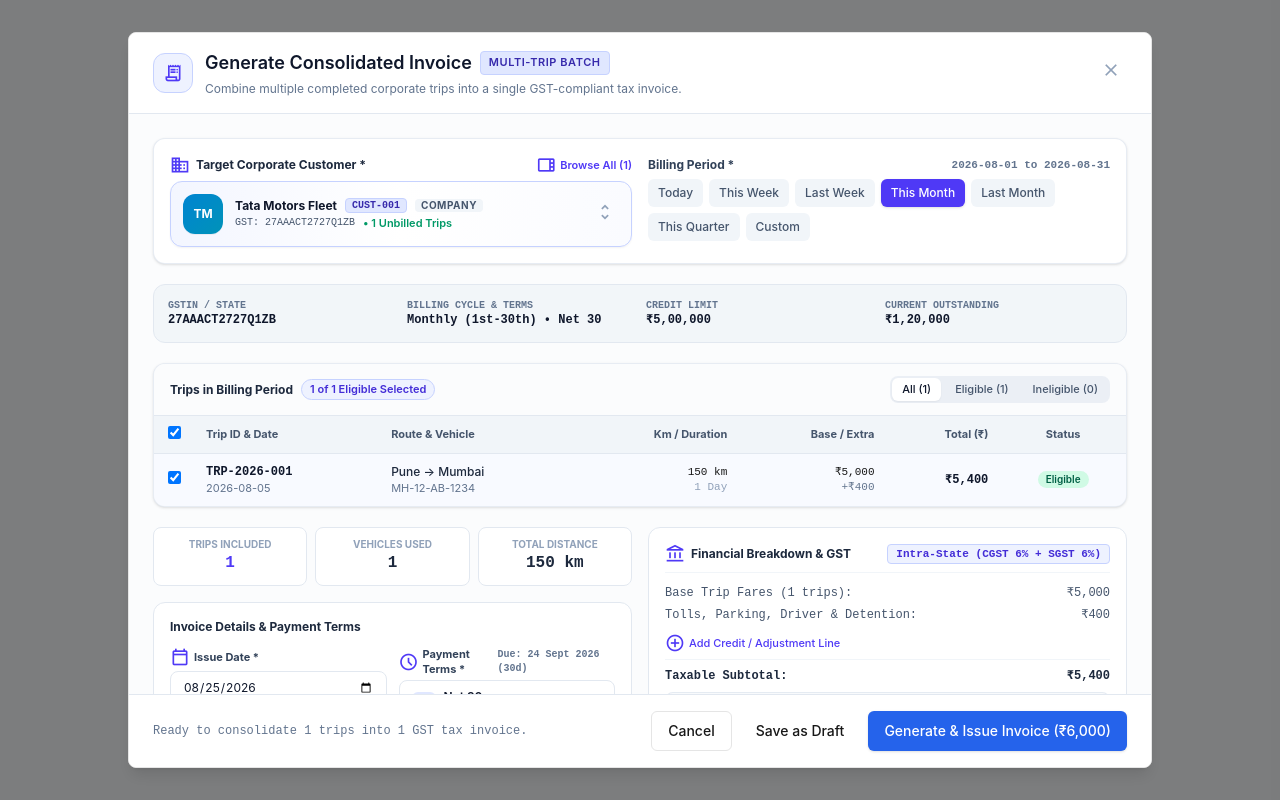
it: ConsolidatedInvoiceModal › toggles an eligible trip selection
Click the checkbox named "Select trip TRP-2026-001".
click(174, 478)  # box 168,471 -> 180,484
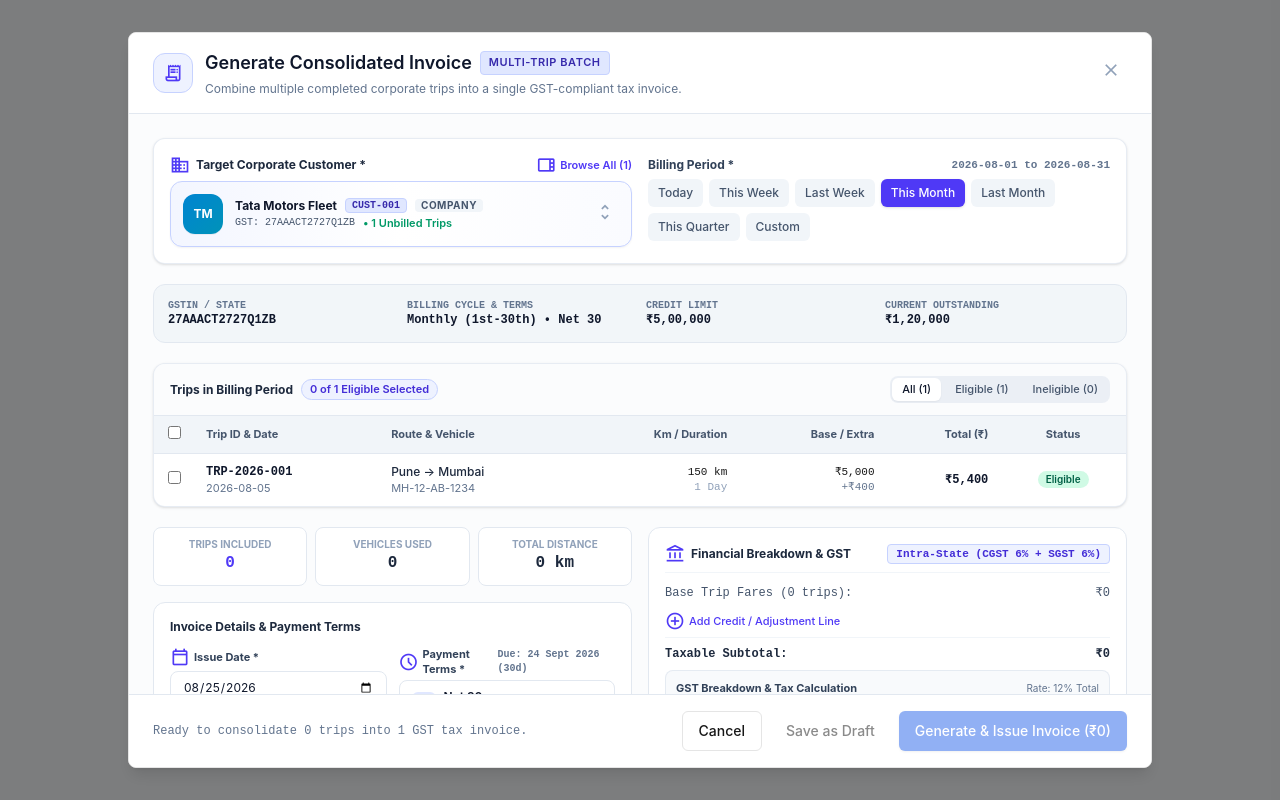
Check: the checkbox named "Select trip TRP-2026-001" is not checked, box 168,471 -> 180,484
Check: the text "0 of 1 Eligible Selected" is shown, box 301,379 -> 438,400
